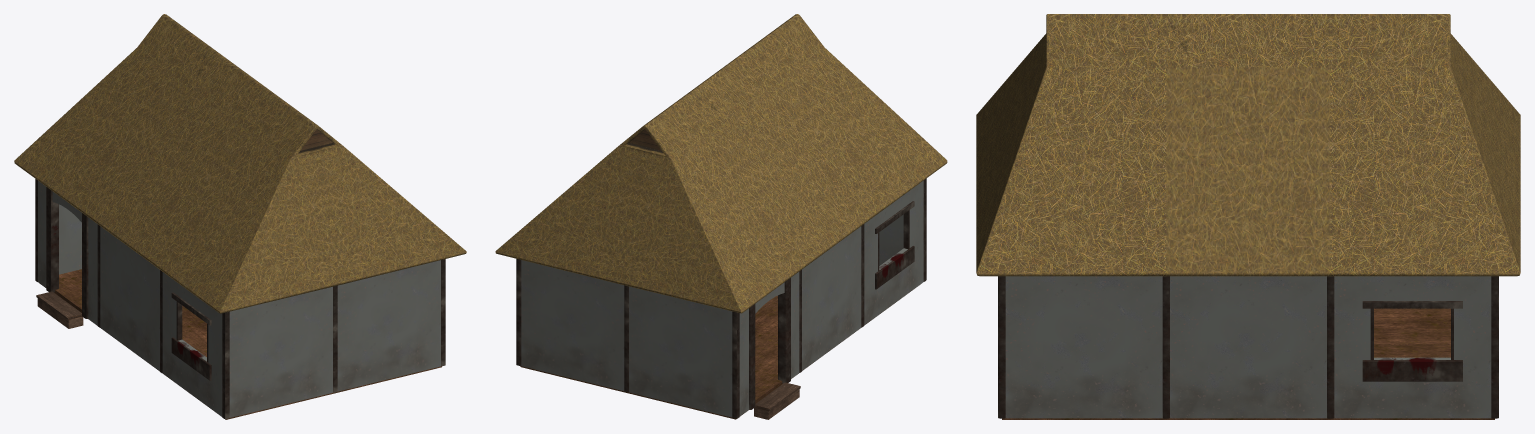
File: House_Poor.fbx
3 views of the same model, side by side, from view 1: azimuth 30°, elevation 25°; view 2: azimuth 150°, elevation 25°; view 3: azimuth 270°, elevation 25° (orthographic). The views are drawn at different scales.
Visible parts, largest first — view 1: House_Poor; view 2: House_Poor; view 3: House_Poor.
Boxes of the visible parts, x1,y1,x2,y2 form: House_Poor: (14,14,466,419); House_Poor: (495,14,947,419); House_Poor: (976,14,1520,419).
Bounding box in the file's own units: 462 × 466 × 663.
